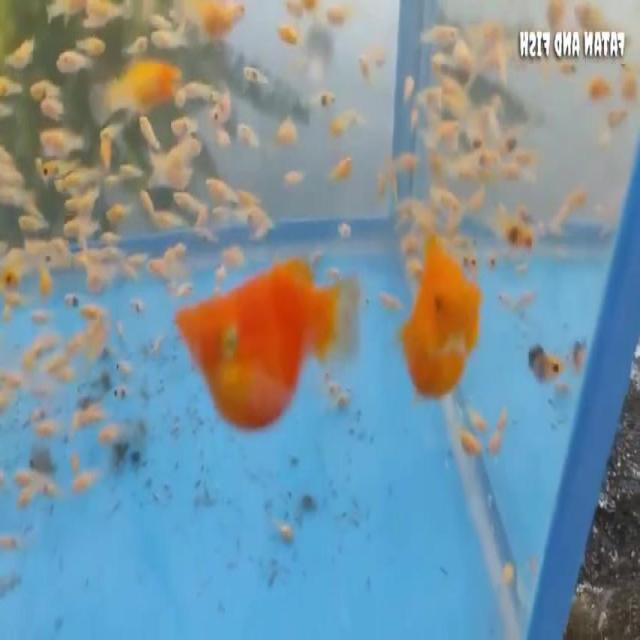PlatyFish: (160, 243, 363, 436)
